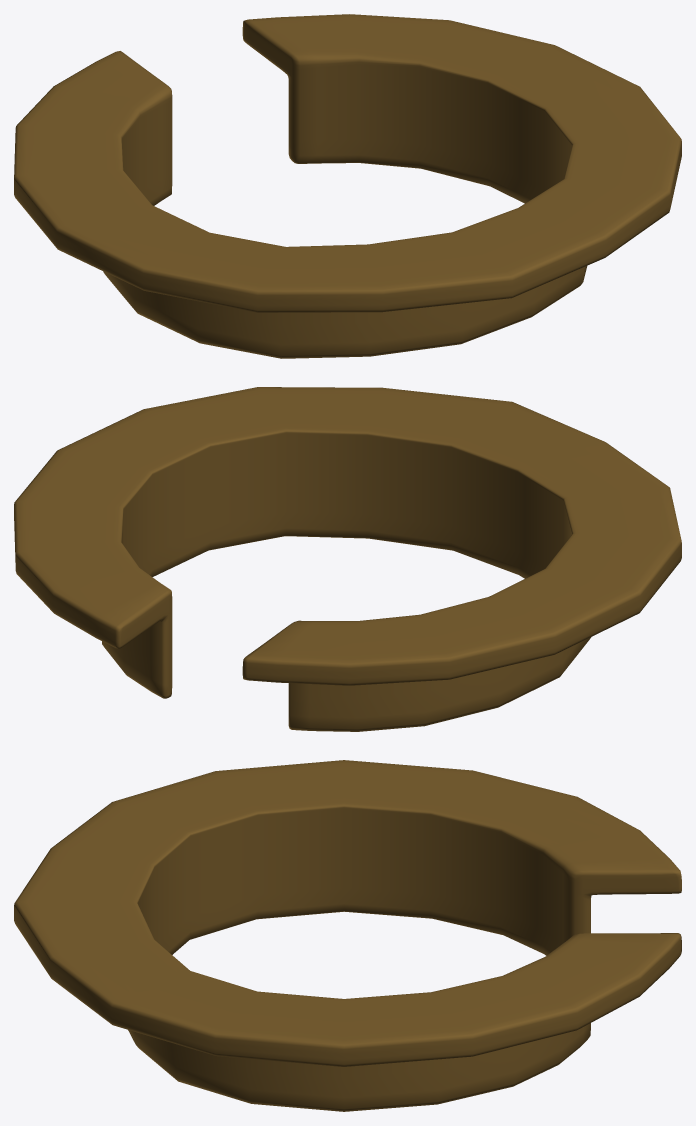
The model's file is RoundConferenceTable.glb.
The picture shows the model from 3 angles, top to bottom: view 1: azimuth 30°, elevation 25°; view 2: azimuth 150°, elevation 25°; view 3: azimuth 270°, elevation 25°; orthographic projection.
Visible parts, largest first — view 1: Circle.002; view 2: Circle.002; view 3: Circle.002.
Part boxes in pixels (box(x1,y1,x2,y2)): Circle.002: box(14, 14, 681, 358); Circle.002: box(14, 387, 681, 731); Circle.002: box(14, 760, 681, 1111).
Bounding box in the file's own units: 8.16 × 1.43 × 8.03.
